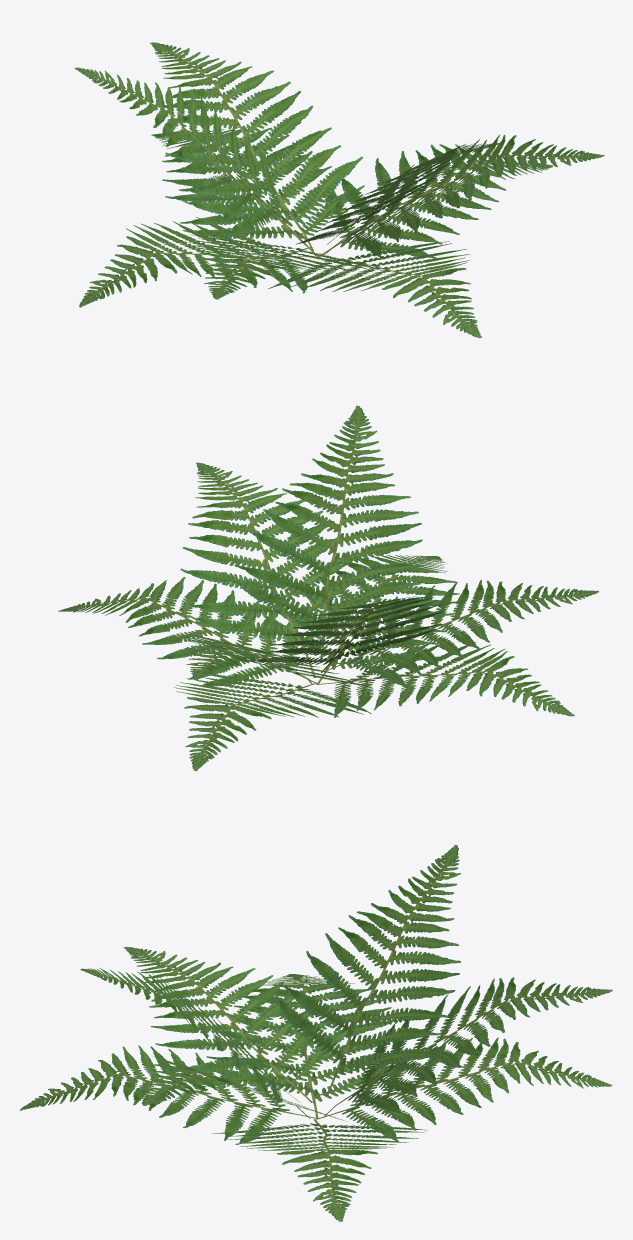
Rendered from SM_SmallFernPlant.fbx.
The picture shows the model from 3 angles, top to bottom: view 1: azimuth 30°, elevation 25°; view 2: azimuth 150°, elevation 25°; view 3: azimuth 270°, elevation 25°; orthographic projection. The views are drawn at different scales.
Visible parts, largest first — view 1: LadyFern; view 2: LadyFern; view 3: LadyFern.
Part boxes in pixels (x1,y1,x2,y2): LadyFern: [74, 42, 604, 338]; LadyFern: [58, 405, 598, 771]; LadyFern: [20, 844, 612, 1221].
Bounding box in the file's own units: 88.32 × 30.23 × 87.58.
